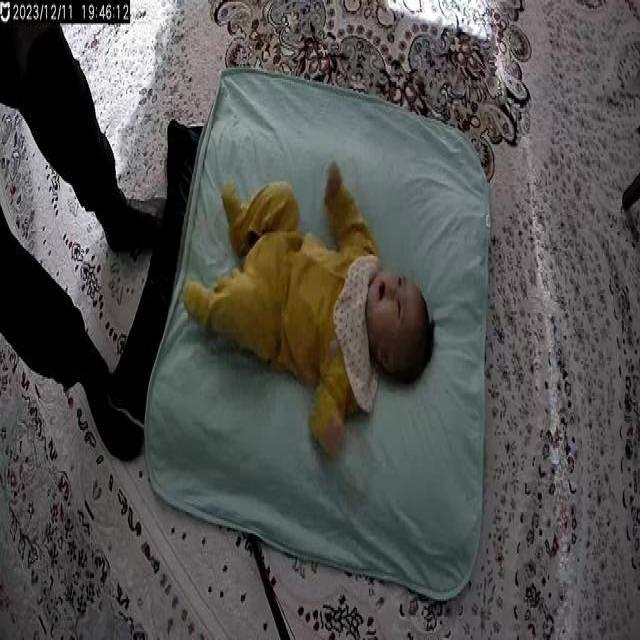baby: (183, 155, 438, 459)
